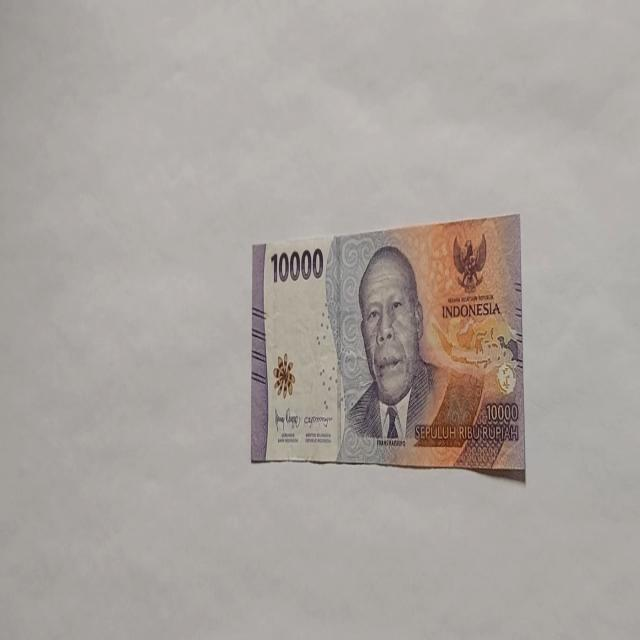sepuluh ribu rupiah: (250, 212, 524, 478), (337, 242, 445, 460)
